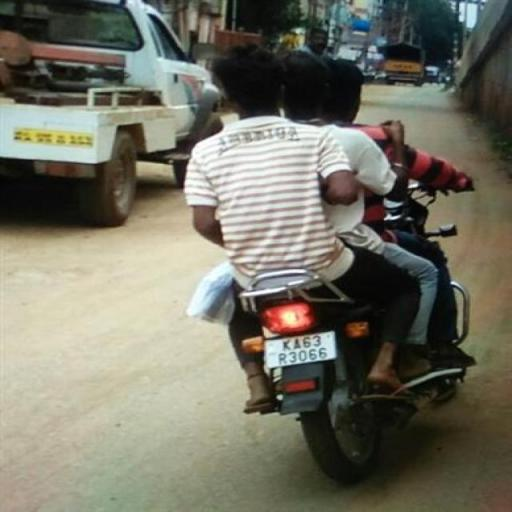tripple riding: (158, 44, 444, 275)
